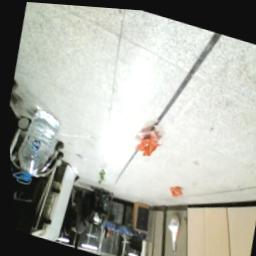herb: (91, 165, 107, 187)
wild: (131, 132, 164, 162), (166, 183, 183, 199)
